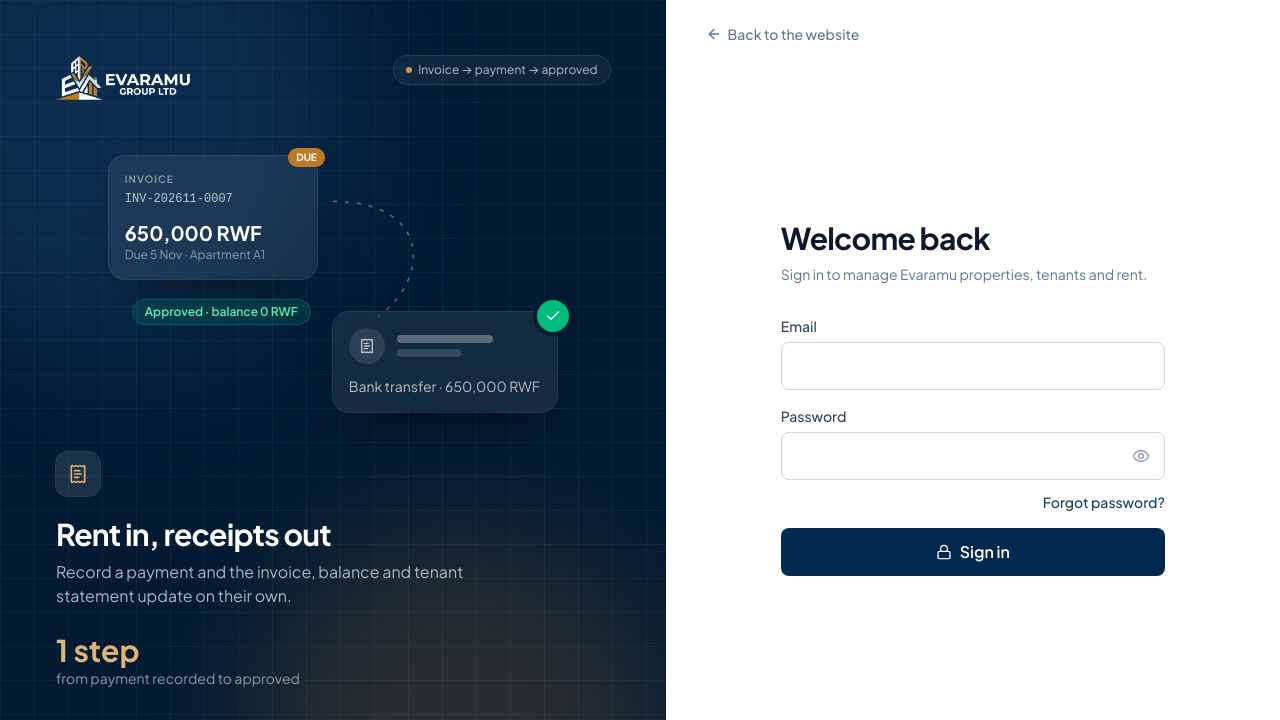
it: LoginPage › shows the server error for bad credentials
Type "staff@example.com" into the field labelled "Email" at (973, 366), box [781,342,1165,390]
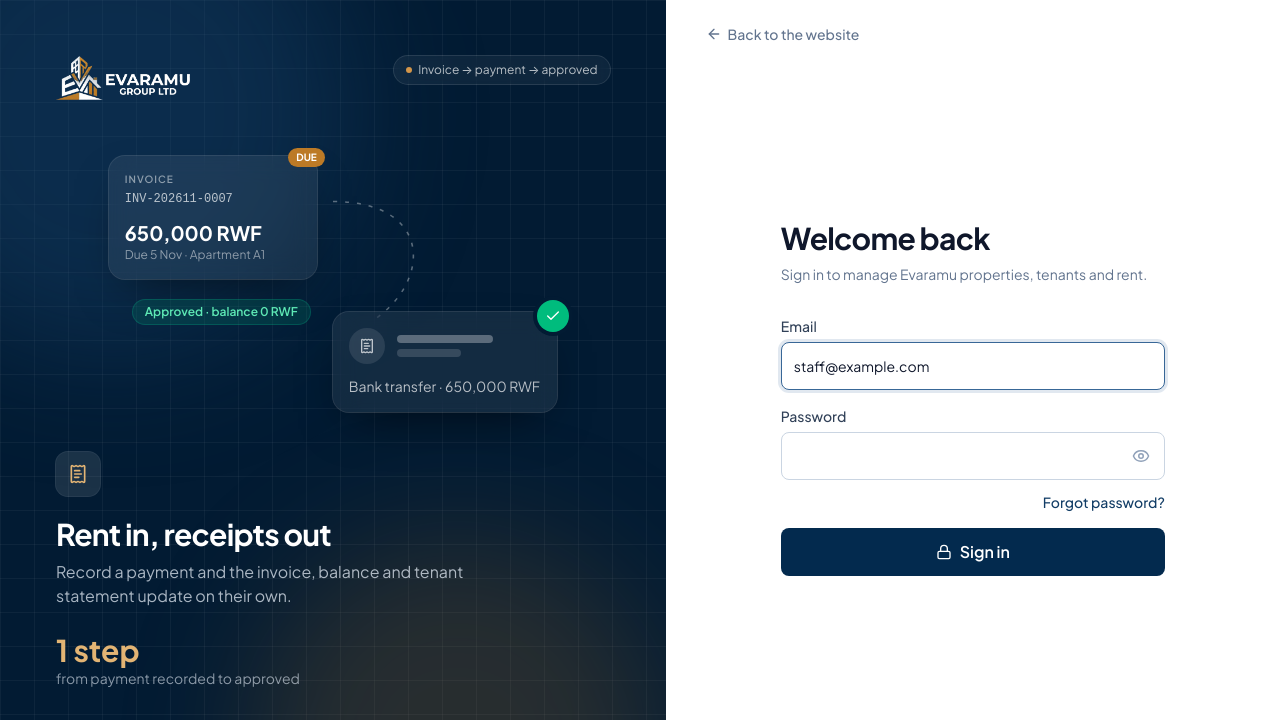
Type "wrong" into the password field labelled "Password" at (973, 456), box [781,432,1165,480]
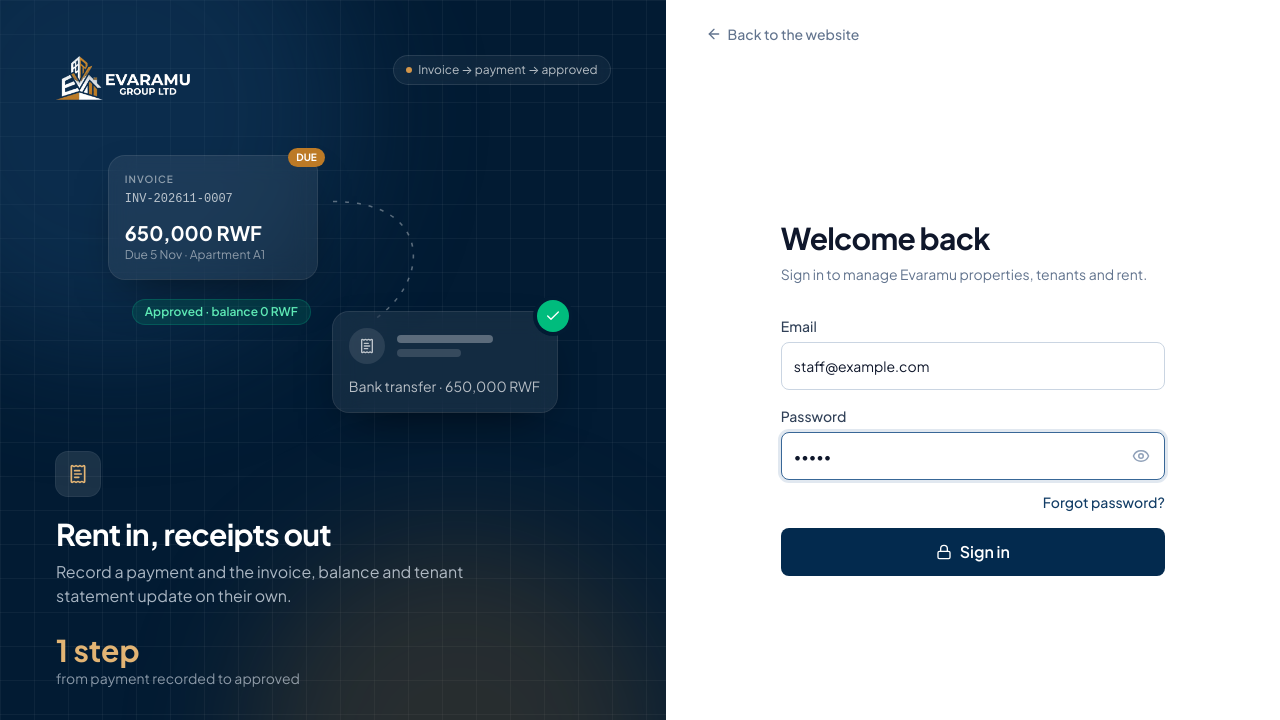
Click the button "Sign in" at (973, 552), box [781,528,1165,576]
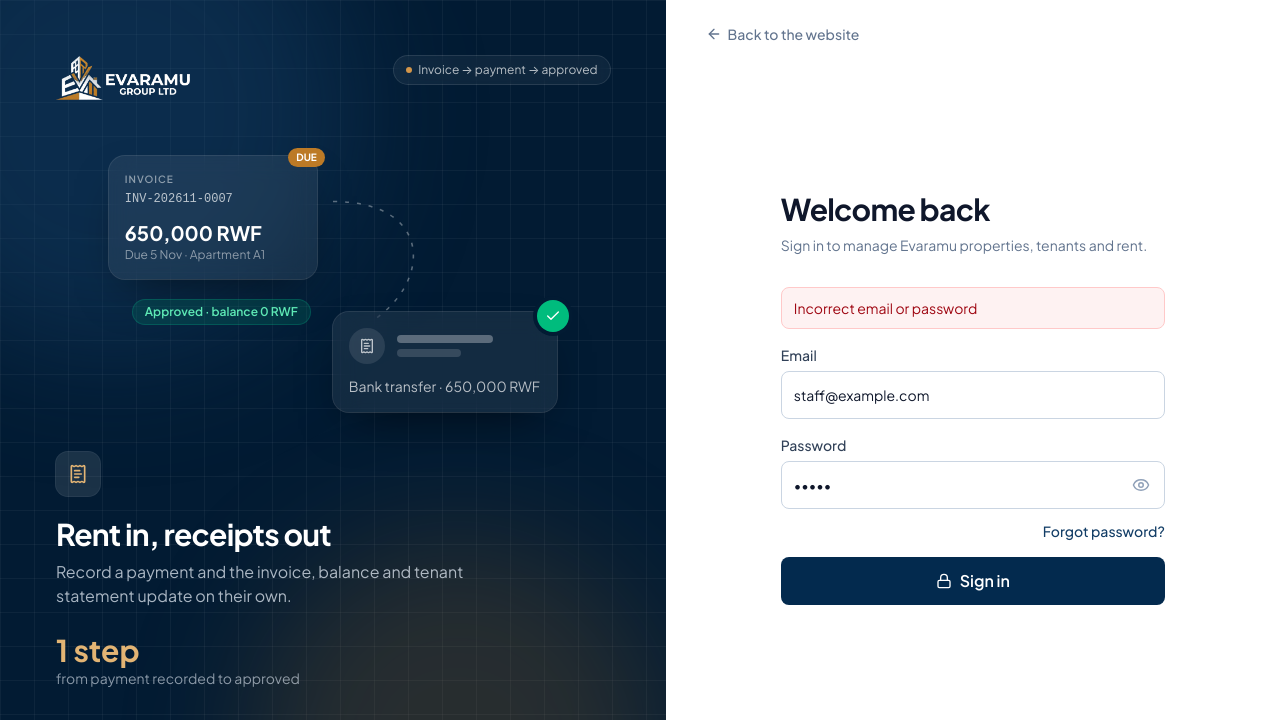
Expected: the message reads "Incorrect email or password", [794,299,977,317]
